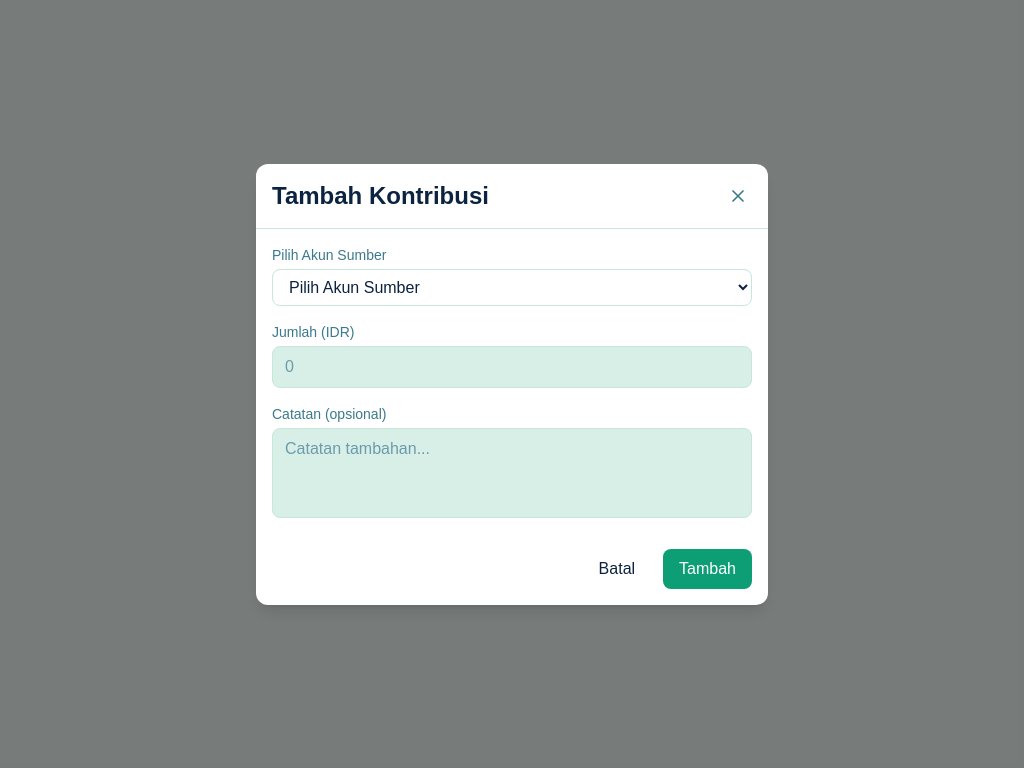
it: ContributionForm › shows error when amount is negative on submit
Step 1. Type "-100" into the number field labelled "Jumlah (IDR)" → [512, 366], box [272,346,752,388]
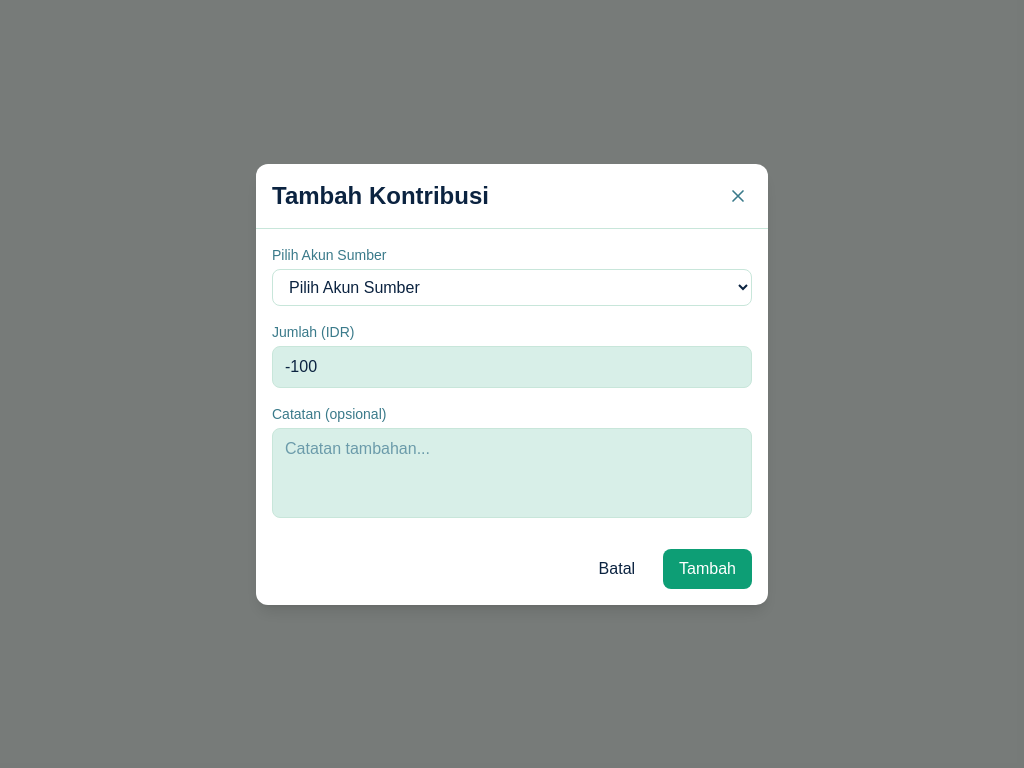
Step 2. Click the button "Tambah" → [708, 568], box [663,548,752,588]
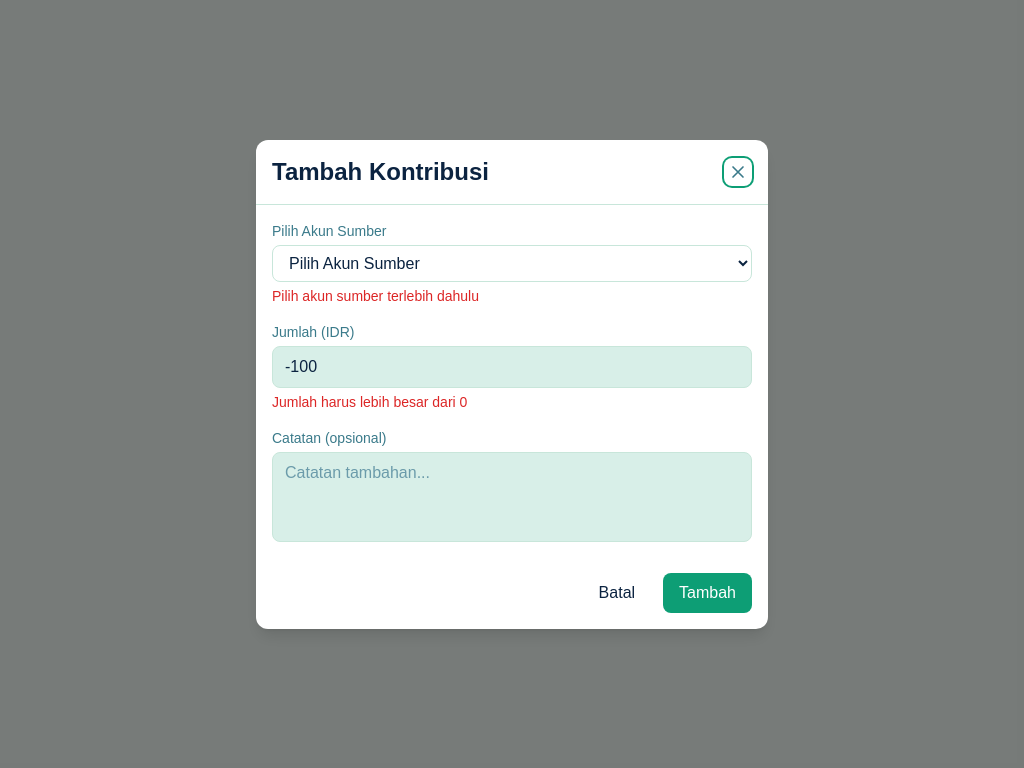
Expected: the text "Jumlah harus lebih besar dari 0" is shown, [272,394,467,410]
